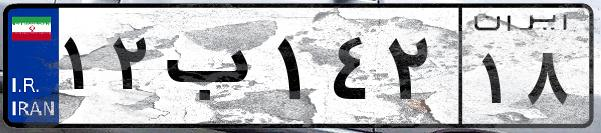1: (270, 28, 330, 110), (57, 26, 110, 100), (475, 38, 525, 113)
2: (385, 28, 445, 110), (110, 28, 158, 98)
4: (330, 28, 385, 110)
8: (525, 38, 570, 115)
ب: (158, 20, 270, 120)
